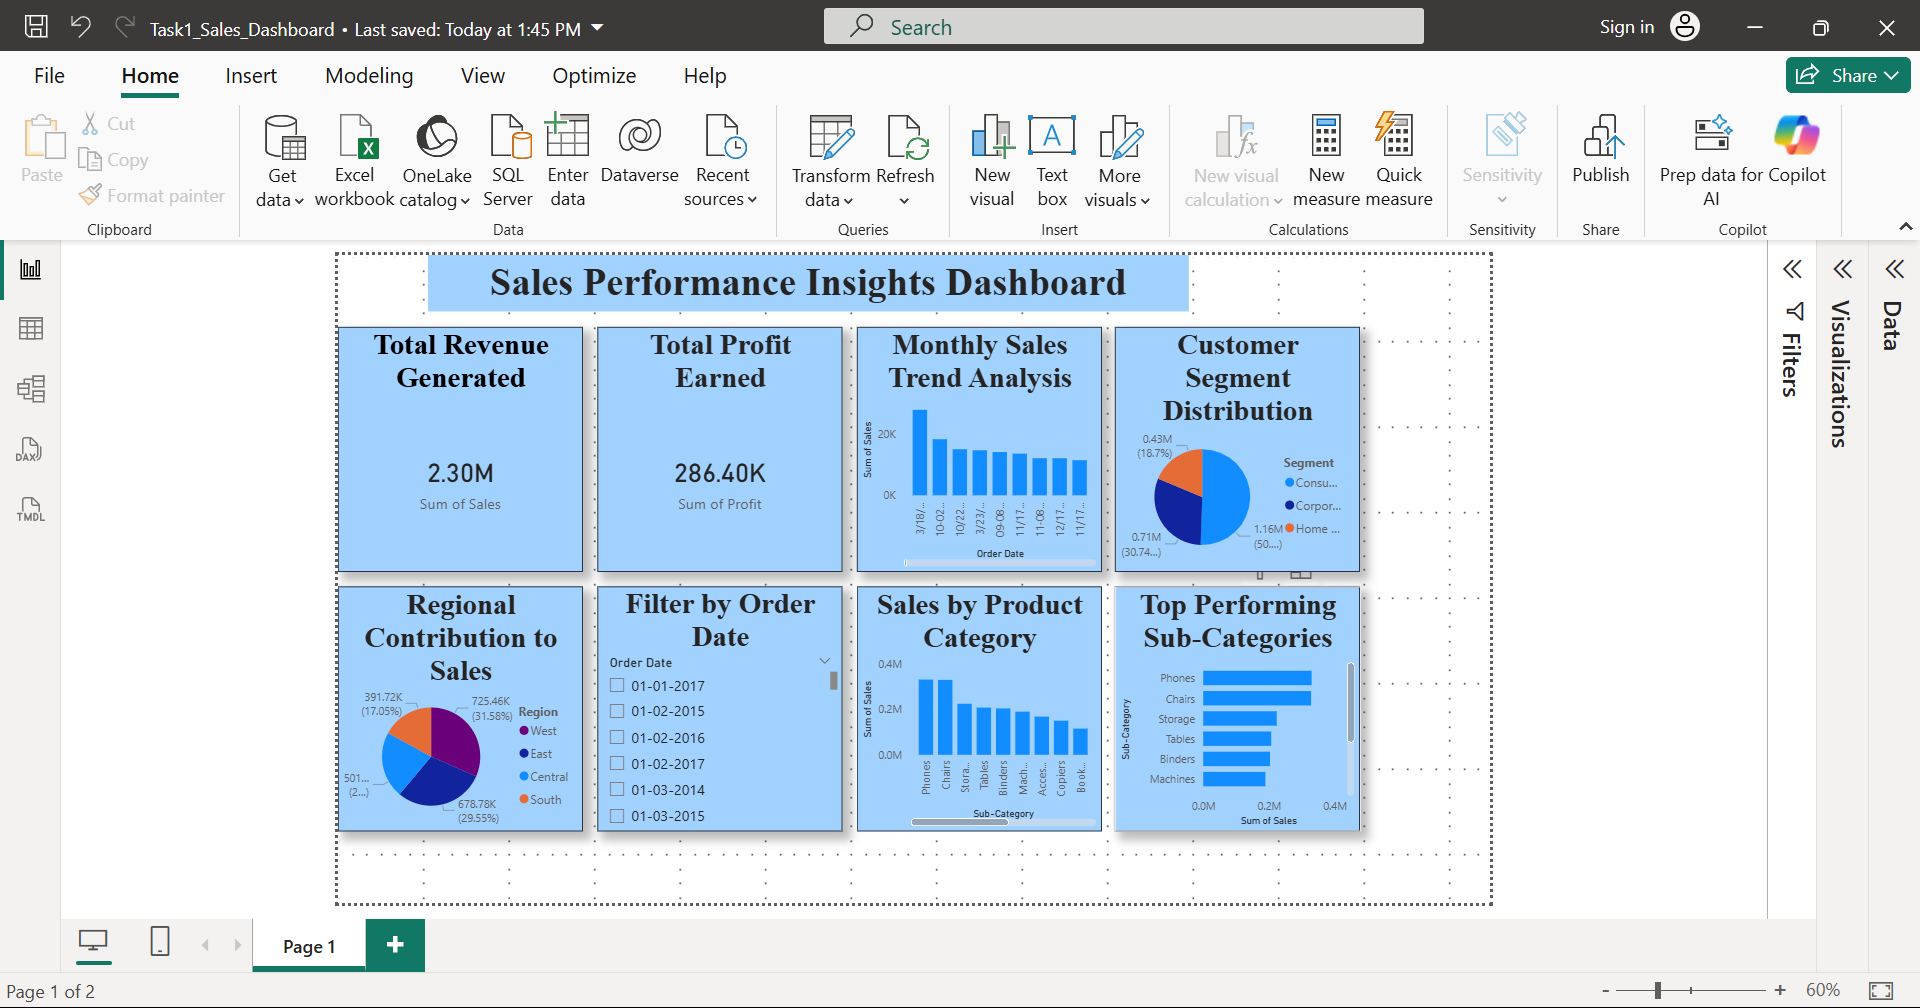

The page's visual inventory and layout, read from the dashboard file:
{"tool":"powerbi","page":{"name":"Page 1","canvas":[1280,720],"ordinal":0},"visuals":[{"type":"card","title":"Total Revenue Generated","fields":{"Values":["Sum(Sample - Superstore.Sales)"]},"box":[0,80,272,272],"z":0},{"type":"lineStackedColumnComboChart","title":"Monthly Sales Trend Analysis","fields":{"Category":["Sample - Superstore.Order Date"],"Y":["Sum(Sample - Superstore.Sales)"]},"box":[576,80,272,272],"z":1000},{"type":"barChart","title":"Top Performing Sub-Categories","fields":{"Category":["Sample - Superstore.Sub-Category"],"Y":["Sum(Sample - Superstore.Sales)"]},"box":[864,368,272,272],"z":2000},{"type":"pieChart","title":"Regional Contribution to Sales","fields":{"Category":["Sample - Superstore.Region"],"Y":["Sum(Sample - Superstore.Sales)"]},"box":[0,368,272,272],"z":3000},{"type":"columnChart","title":"Sales by Product Category","fields":{"Category":["Sample - Superstore.Sub-Category"],"Y":["Sum(Sample - Superstore.Sales)"]},"box":[576,368,272,272],"z":4000},{"type":"card","title":"Total Profit Earned","fields":{"Values":["Sum(Sample - Superstore.Profit)"]},"box":[288,80,272,272],"z":5000},{"type":"slicer","title":" Filter by Order Date","fields":{"Values":["Sample - Superstore.Order Date"]},"box":[288,368,272,272],"z":7000},{"type":"pieChart","title":" Customer Segment Distribution","fields":{"Y":["Sum(Sample - Superstore.Sales)"],"Category":["Sample - Superstore.Segment"]},"box":[864,80,272,272],"z":8000},{"type":"textbox","box":[99.7,0,845.5,62.8],"z":9000}]}

Visuals, with their boxes on the page's 1280x720 design canvas (x1, y1, x2, y2). These are canvas units, not pixel positions in the 1920x1008 screenshot, which may show the page scaled, cropped or inside an application window:
"Total Revenue Generated" card: crop(0, 80, 272, 352)
"Monthly Sales Trend Analysis" lineStackedColumnComboChart: crop(576, 80, 848, 352)
"Top Performing Sub-Categories" barChart: crop(864, 368, 1136, 640)
"Regional Contribution to Sales" pieChart: crop(0, 368, 272, 640)
"Sales by Product Category" columnChart: crop(576, 368, 848, 640)
"Total Profit Earned" card: crop(288, 80, 560, 352)
" Filter by Order Date" slicer: crop(288, 368, 560, 640)
" Customer Segment Distribution" pieChart: crop(864, 80, 1136, 352)
textbox: crop(100, 0, 945, 63)
